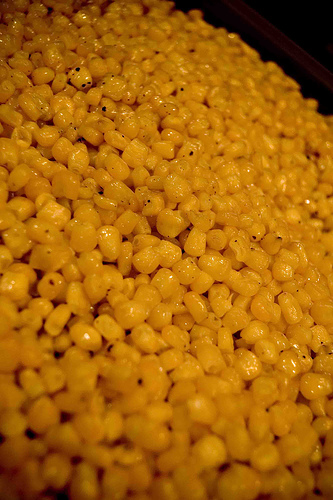corn: (1, 0, 331, 498)
